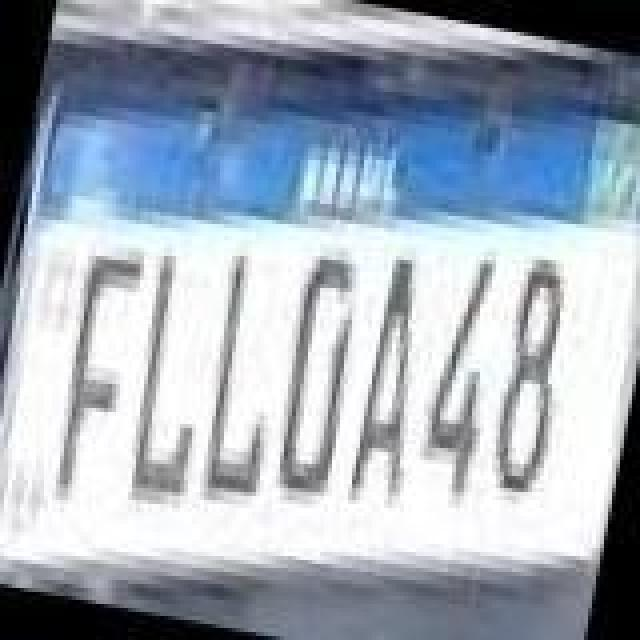4: (412, 248, 516, 504)
8: (480, 250, 584, 502)
A: (336, 250, 448, 518)
D: (264, 238, 376, 506)
F: (38, 242, 154, 510)
L: (116, 242, 236, 510), (190, 246, 306, 506)
